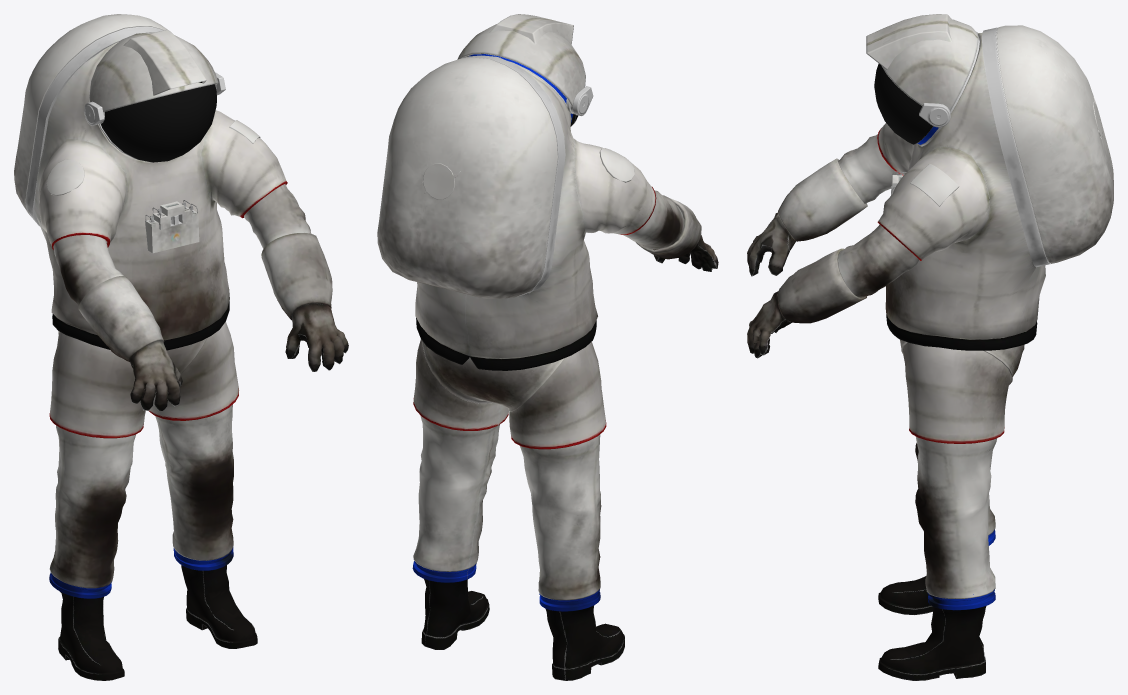
3 renders of one model, left to right at view 1: azimuth 30°, elevation 25°; view 2: azimuth 150°, elevation 25°; view 3: azimuth 270°, elevation 25°, orthographic.
Parts seen in each view (by area): view 1: Z2; view 2: Z2; view 3: Z2.
Boxes of the visible parts, <box> form: Z2: <box>14,14,348,680</box>; Z2: <box>377,14,718,680</box>; Z2: <box>747,14,1113,680</box>.
Bounding box in the file's own units: 0.7944 × 1.94 × 1.04.
1 material, 1 textured.
